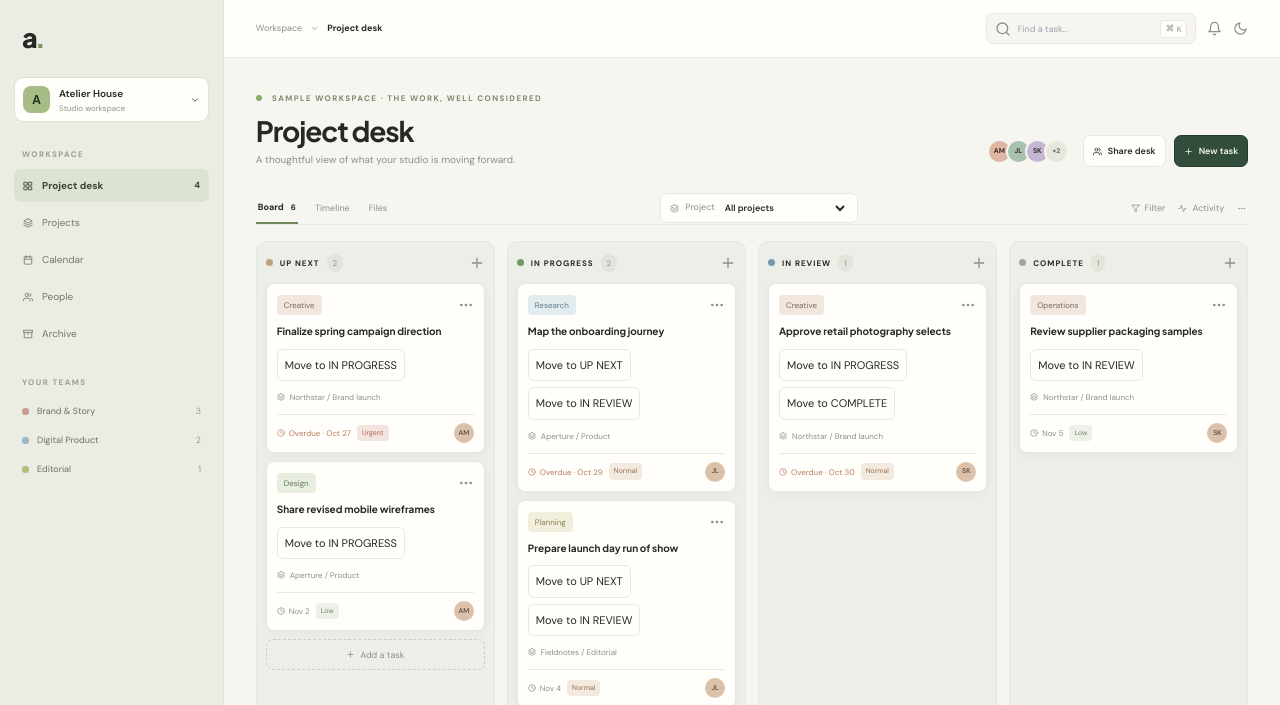
it: Atelier task editor › creates a task with validated ownership and metadata, then focuses the new card
Type "no matching task" into the field labelled "Find a task" at (1085, 28), box [1018, 22, 1153, 34]
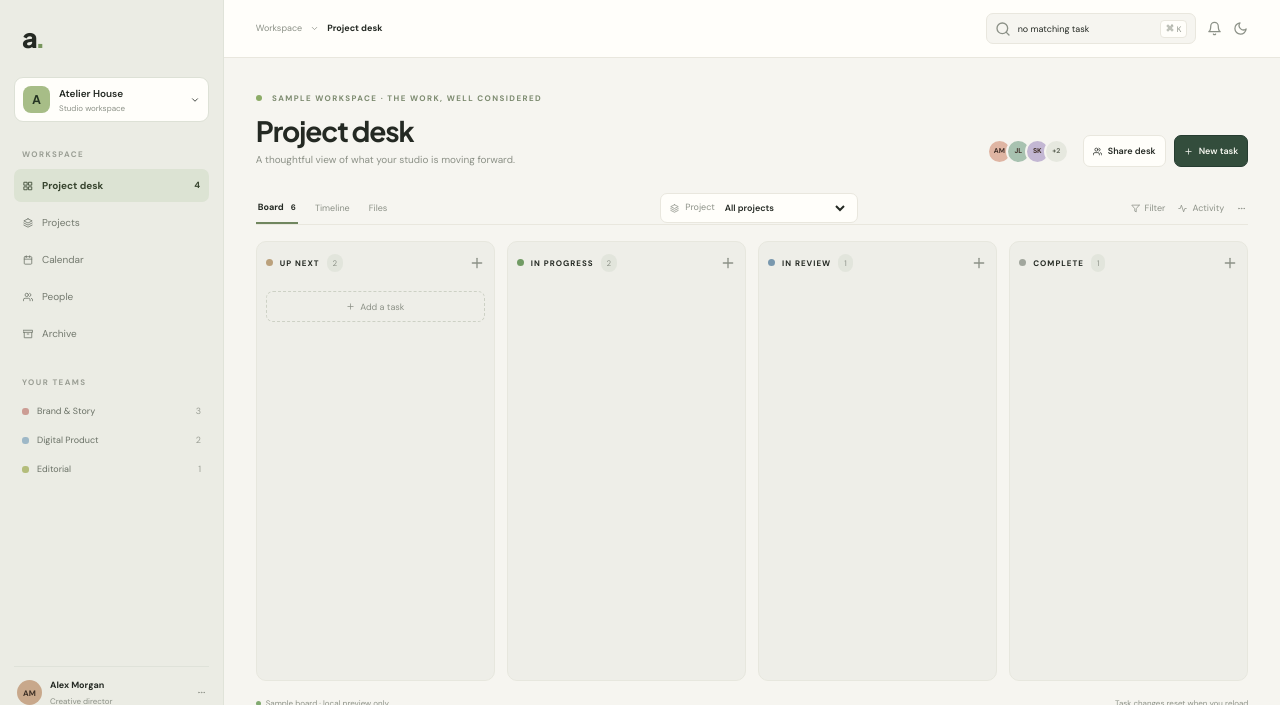
Click the button "New task" at (1211, 151), box [1174, 135, 1248, 167]
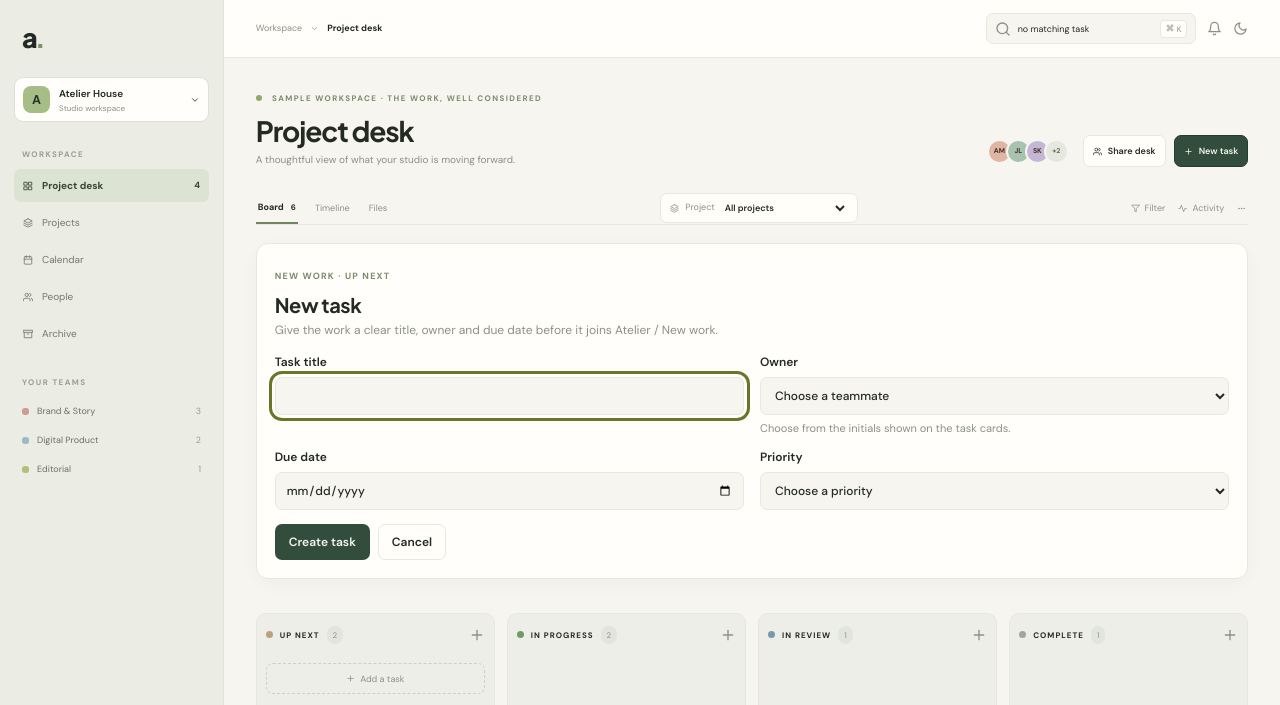
Type "Draft a studio launch" into the field labelled "Task title" at (509, 396), box [275, 377, 744, 415]
Select "JL" in the dropdown labelled "Owner" at (995, 396), box [760, 377, 1229, 415]
Type "2026-11-10" into the date field labelled "Due date" at (509, 491), box [275, 472, 744, 510]
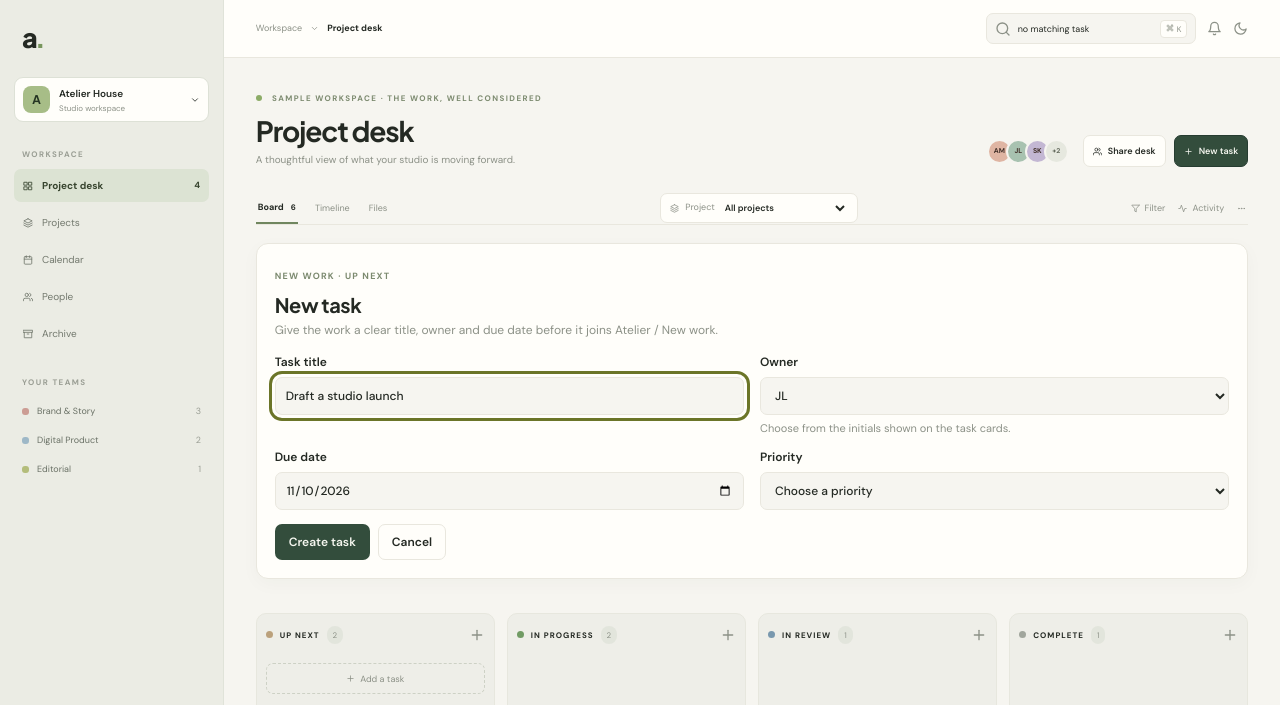
Select "Urgent" in the dropdown labelled "Priority" at (995, 491), box [760, 472, 1229, 510]
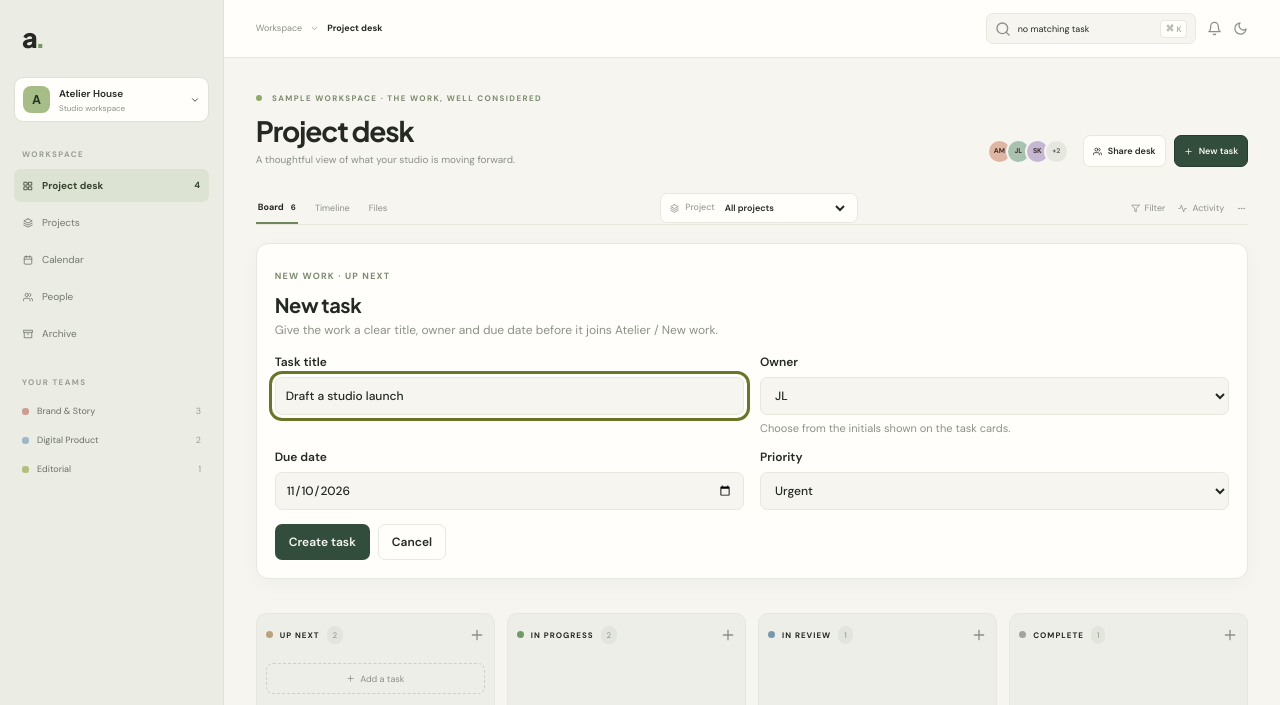
Click the button "Create task" at (322, 542), box [275, 524, 370, 560]
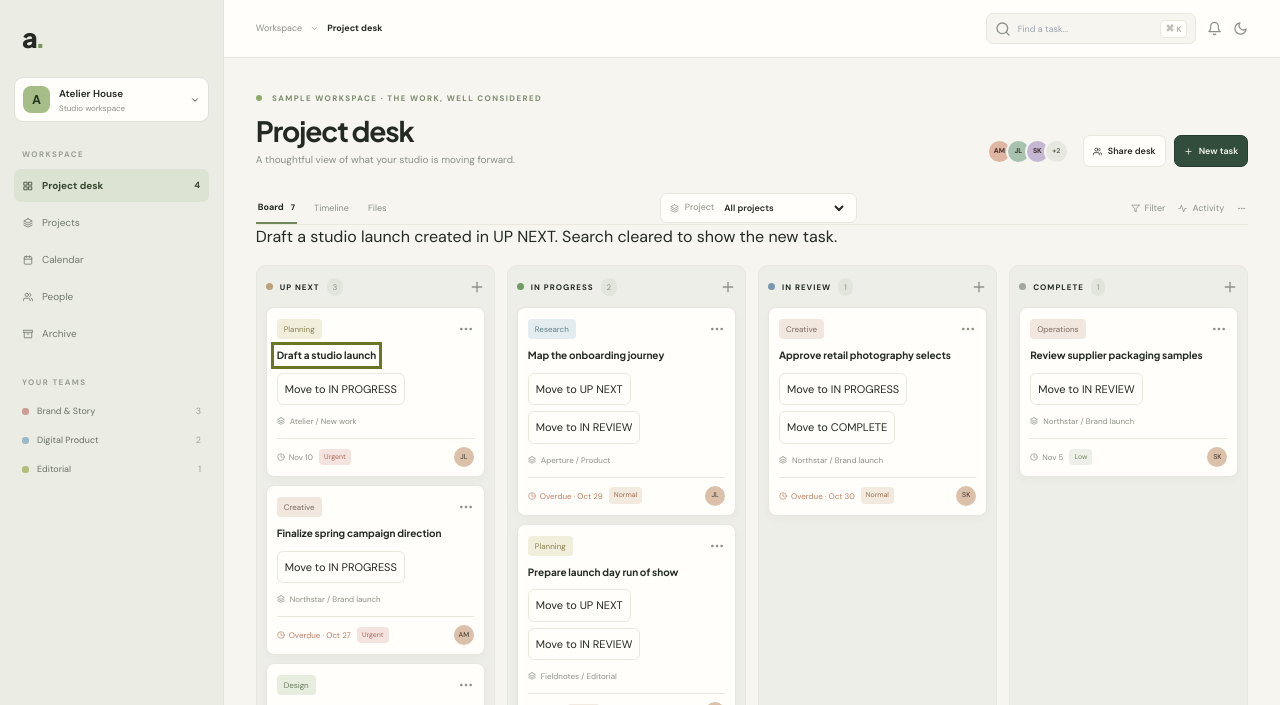
Expected: the text "JL" in the row of "Nov 10" is shown, [460, 452, 467, 461]
Expected: the text "Urgent" next to "Nov 10" is shown, [324, 452, 346, 461]
Click the button "Draft a studio launch" at (326, 355), box [277, 348, 376, 362]
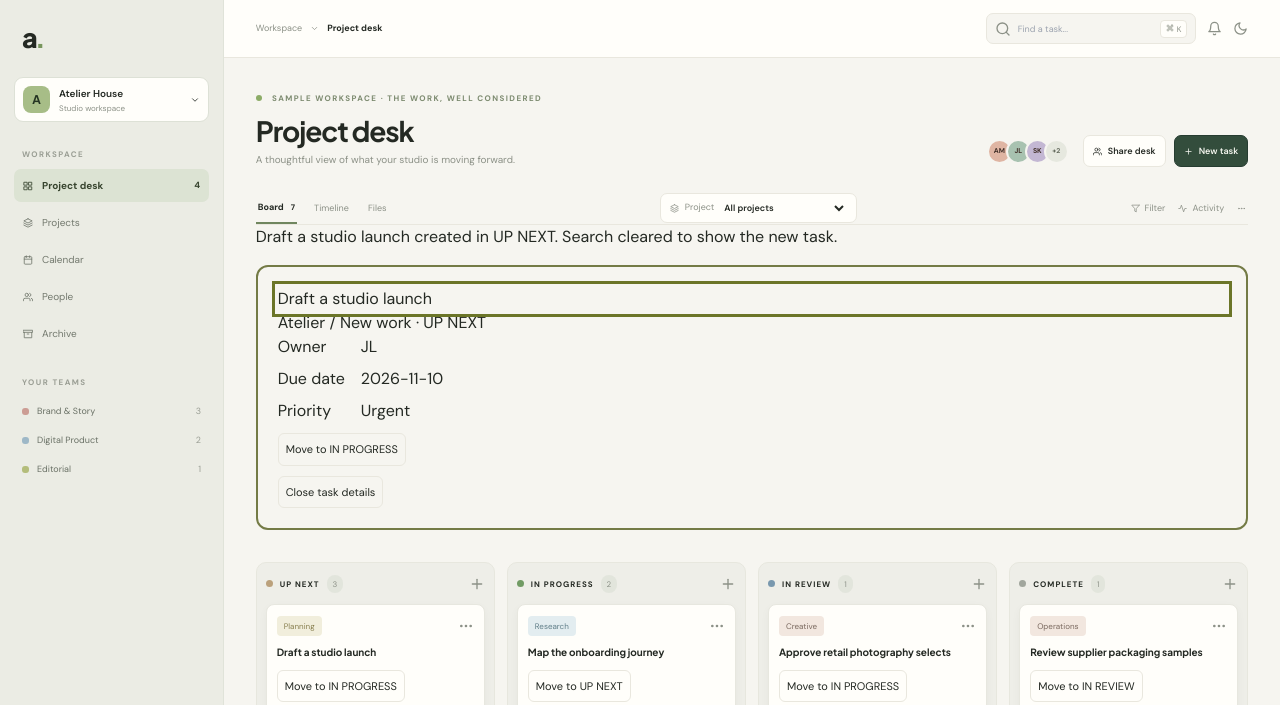
Expected: the message reads "Draft a studio launch created in UP NEXT. Search cleared to show the new task.", [256, 226, 837, 247]
Expected: the field labelled "Find a task" is empty, [1018, 22, 1153, 34]
Expected: the text "2026-11-10" is shown, [361, 368, 443, 389]
